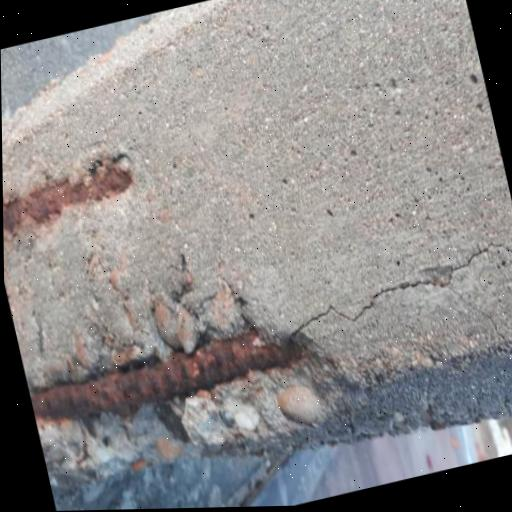exposed_rebar: (30, 330, 302, 419), (3, 160, 133, 232)
